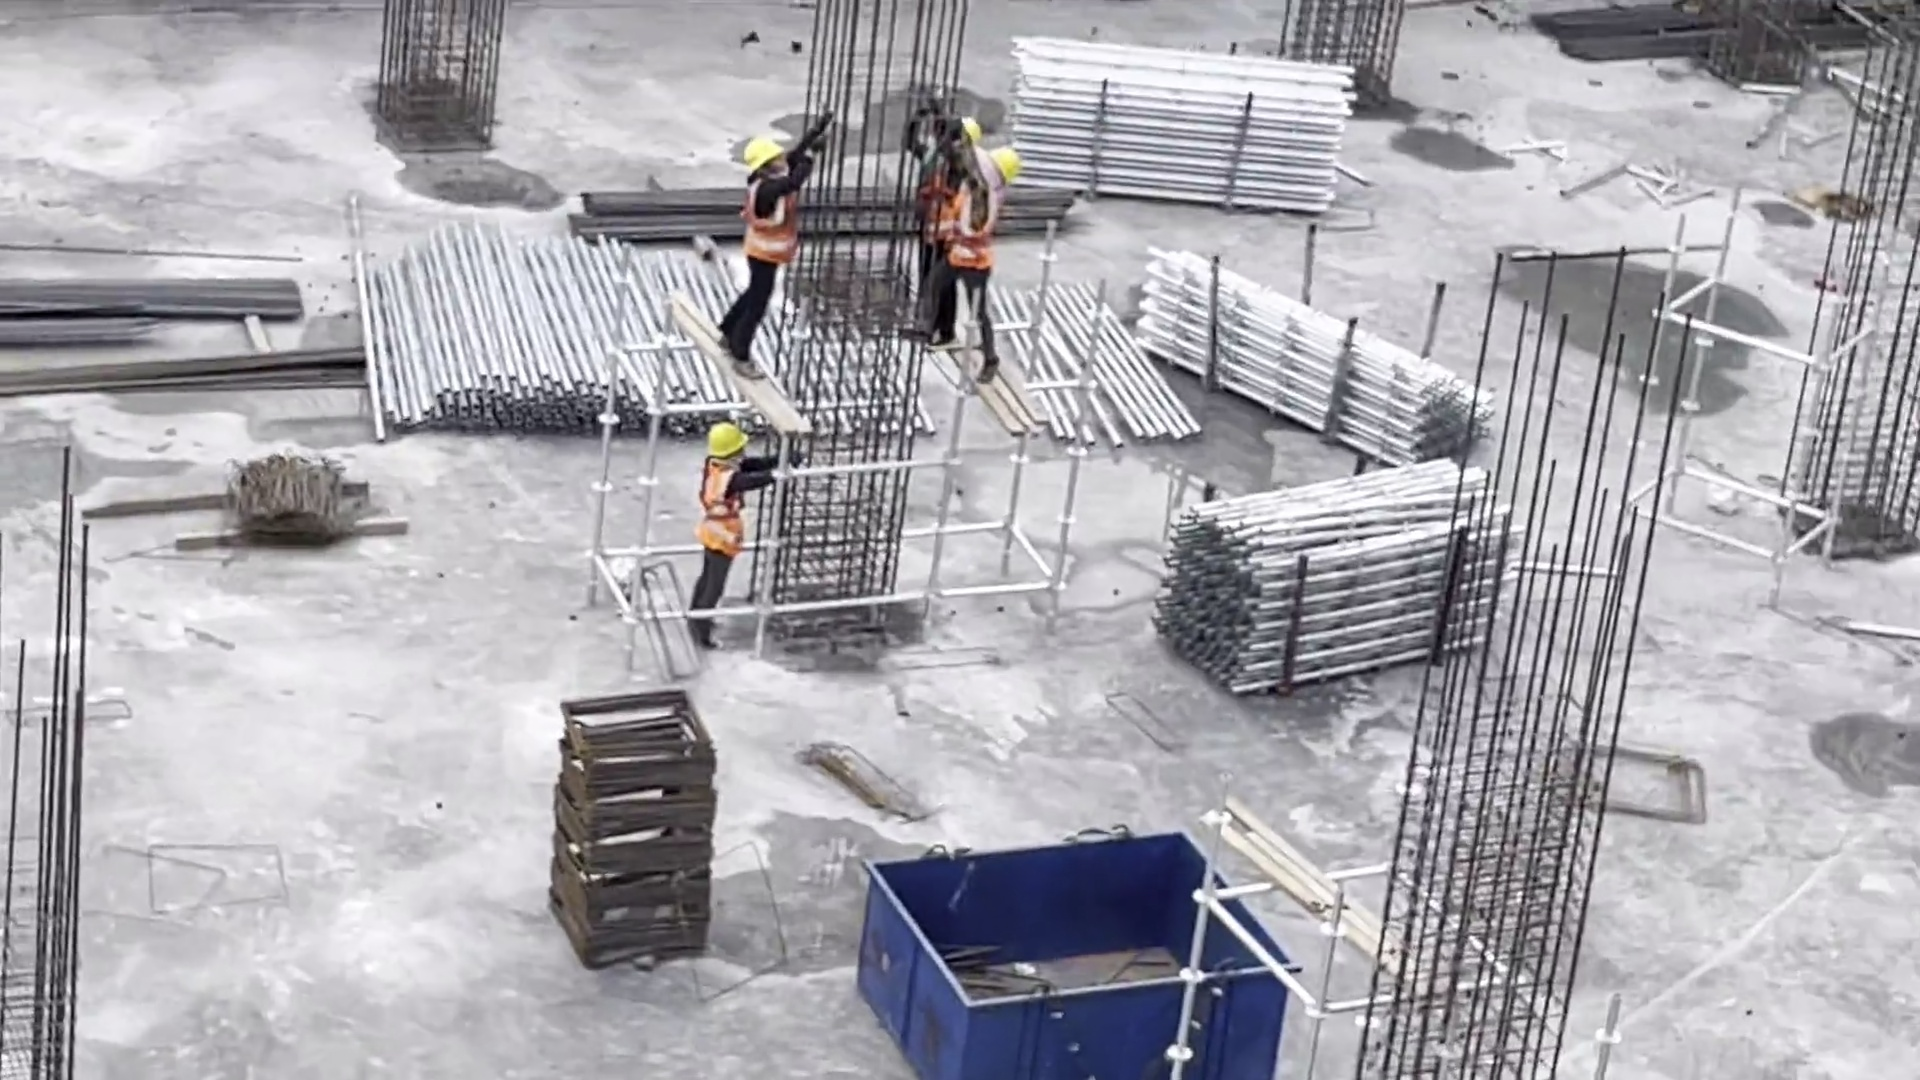helmet: (704, 417, 749, 456), (988, 139, 1023, 187), (740, 137, 786, 172)
hopper: (858, 827, 1302, 1080)
person: (715, 124, 803, 390), (940, 135, 1021, 385), (689, 419, 762, 656), (899, 102, 969, 293)
rebar: (564, 181, 1082, 243), (1, 347, 378, 417), (1, 262, 304, 322), (1538, 4, 1883, 56), (1, 297, 155, 346)
scaffold: (1137, 234, 1497, 489), (1138, 456, 1522, 680), (979, 30, 1384, 212), (347, 219, 732, 409)
vest: (696, 450, 754, 556), (943, 175, 1000, 274), (740, 176, 800, 265)
